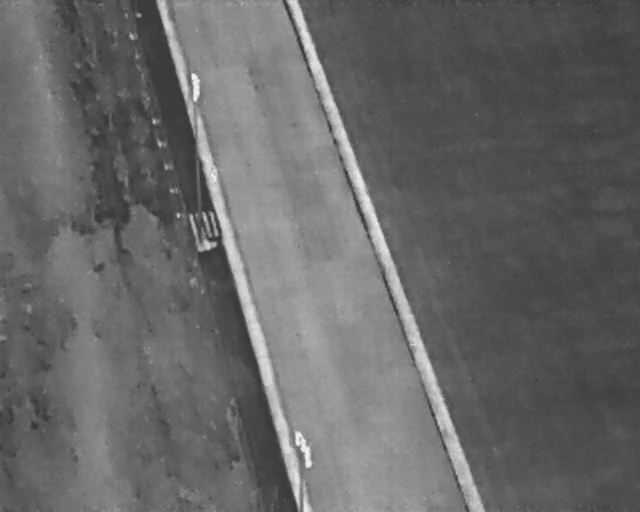Person: (299, 445, 314, 469), (293, 428, 305, 449)
